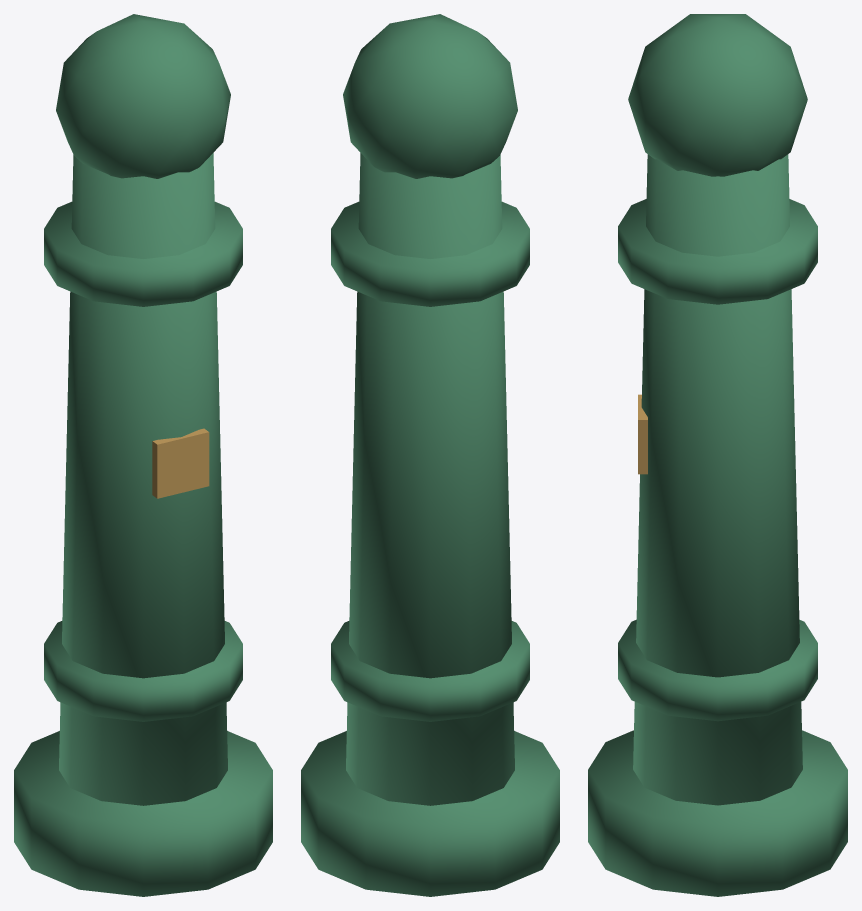
The picture shows the model from 3 angles, left to right: view 1: azimuth 30°, elevation 25°; view 2: azimuth 150°, elevation 25°; view 3: azimuth 270°, elevation 25°; orthographic projection.
Parts seen in each view (by area): view 1: house_paint; view 2: house_paint; view 3: house_paint.
Part boxes in pixels (x1,y1,x2,y2): house_paint: (14,14,272,896); house_paint: (301,14,559,896); house_paint: (588,14,847,896).
Bounding box in the file's own units: 0.26 × 0.91 × 0.26.
Materials: 1 (1 with a texture image).
